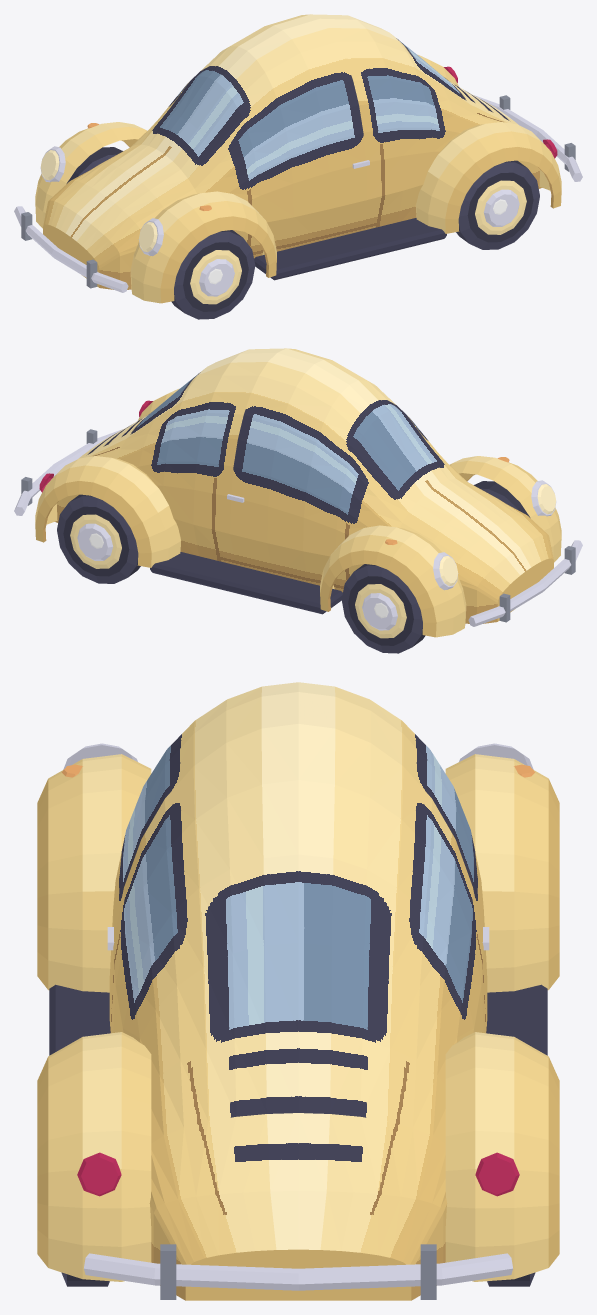
File: beetle-v1.glb
3 views of the same model, one above another, from view 1: azimuth 30°, elevation 25°; view 2: azimuth 150°, elevation 25°; view 3: azimuth 270°, elevation 25° (orthographic). The views are drawn at different scales.
Visible parts, largest first — view 1: Body_static, Wheel_FL_tire_hub, Wheel_RL_tire_hub, Wheel_FR_tire_hub; view 2: Body_static, Wheel_FR_tire_hub, Wheel_RR_tire_hub, Wheel_FL_tire_hub; view 3: Body_static.
Boxes of the visible parts, x1,y1,x2,y2 form: Body_static: [14, 14, 582, 303]; Wheel_FL_tire_hub: [171, 230, 255, 319]; Wheel_RL_tire_hub: [456, 160, 539, 249]; Wheel_FR_tire_hub: [66, 147, 122, 183]; Body_static: [14, 348, 582, 637]; Wheel_FR_tire_hub: [341, 564, 425, 653]; Wheel_RR_tire_hub: [57, 494, 140, 583]; Wheel_FL_tire_hub: [474, 481, 530, 517]; Body_static: [37, 682, 559, 1300].
Size of the model in its own units: 80.87 by 34.09 by 37.04.
Materials: 1 (1 with a texture image).
